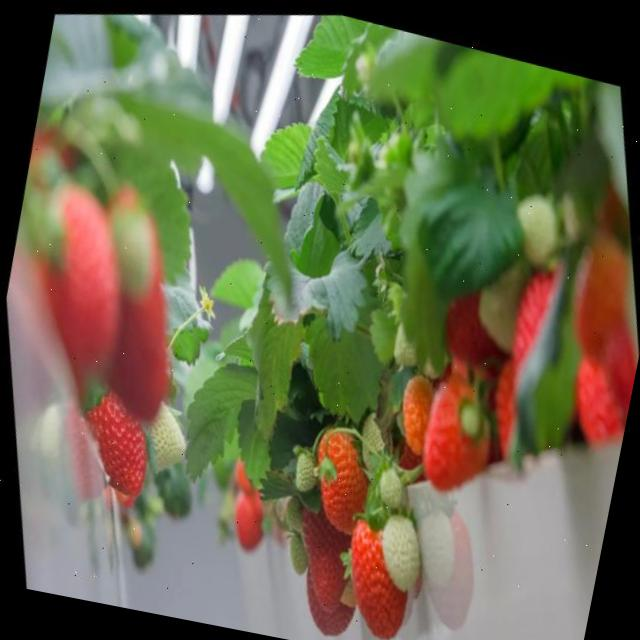ripe: (62, 180, 212, 422), (10, 174, 157, 375), (392, 344, 521, 502), (60, 378, 174, 522), (320, 503, 430, 640), (294, 410, 394, 538), (485, 260, 580, 384), (281, 496, 371, 616), (554, 340, 640, 450), (286, 556, 362, 640), (218, 483, 275, 557)
